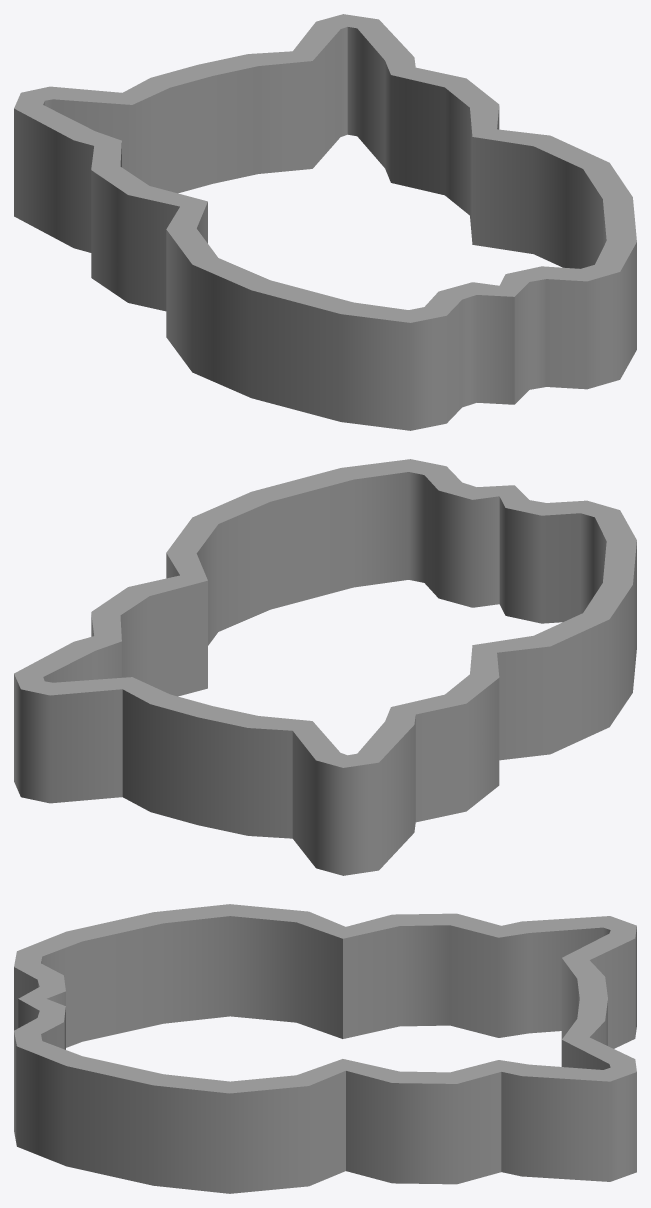
Rendered from BiscuitCutter_Owl_01.fbx.
3 renders of one model, top to bottom at view 1: azimuth 30°, elevation 25°; view 2: azimuth 150°, elevation 25°; view 3: azimuth 270°, elevation 25°, orthographic. The views are drawn at different scales.
Parts seen in each view (by area): view 1: BiscuitCutter_Owl_01; view 2: BiscuitCutter_Owl_01; view 3: BiscuitCutter_Owl_01.
Boxes of the visible parts, x1,y1,x2,y2 form: BiscuitCutter_Owl_01: (14, 14, 636, 430); BiscuitCutter_Owl_01: (14, 459, 636, 875); BiscuitCutter_Owl_01: (14, 904, 636, 1193).
Bounding box in the file's own units: 0.0516 × 0.0128 × 0.0718.
